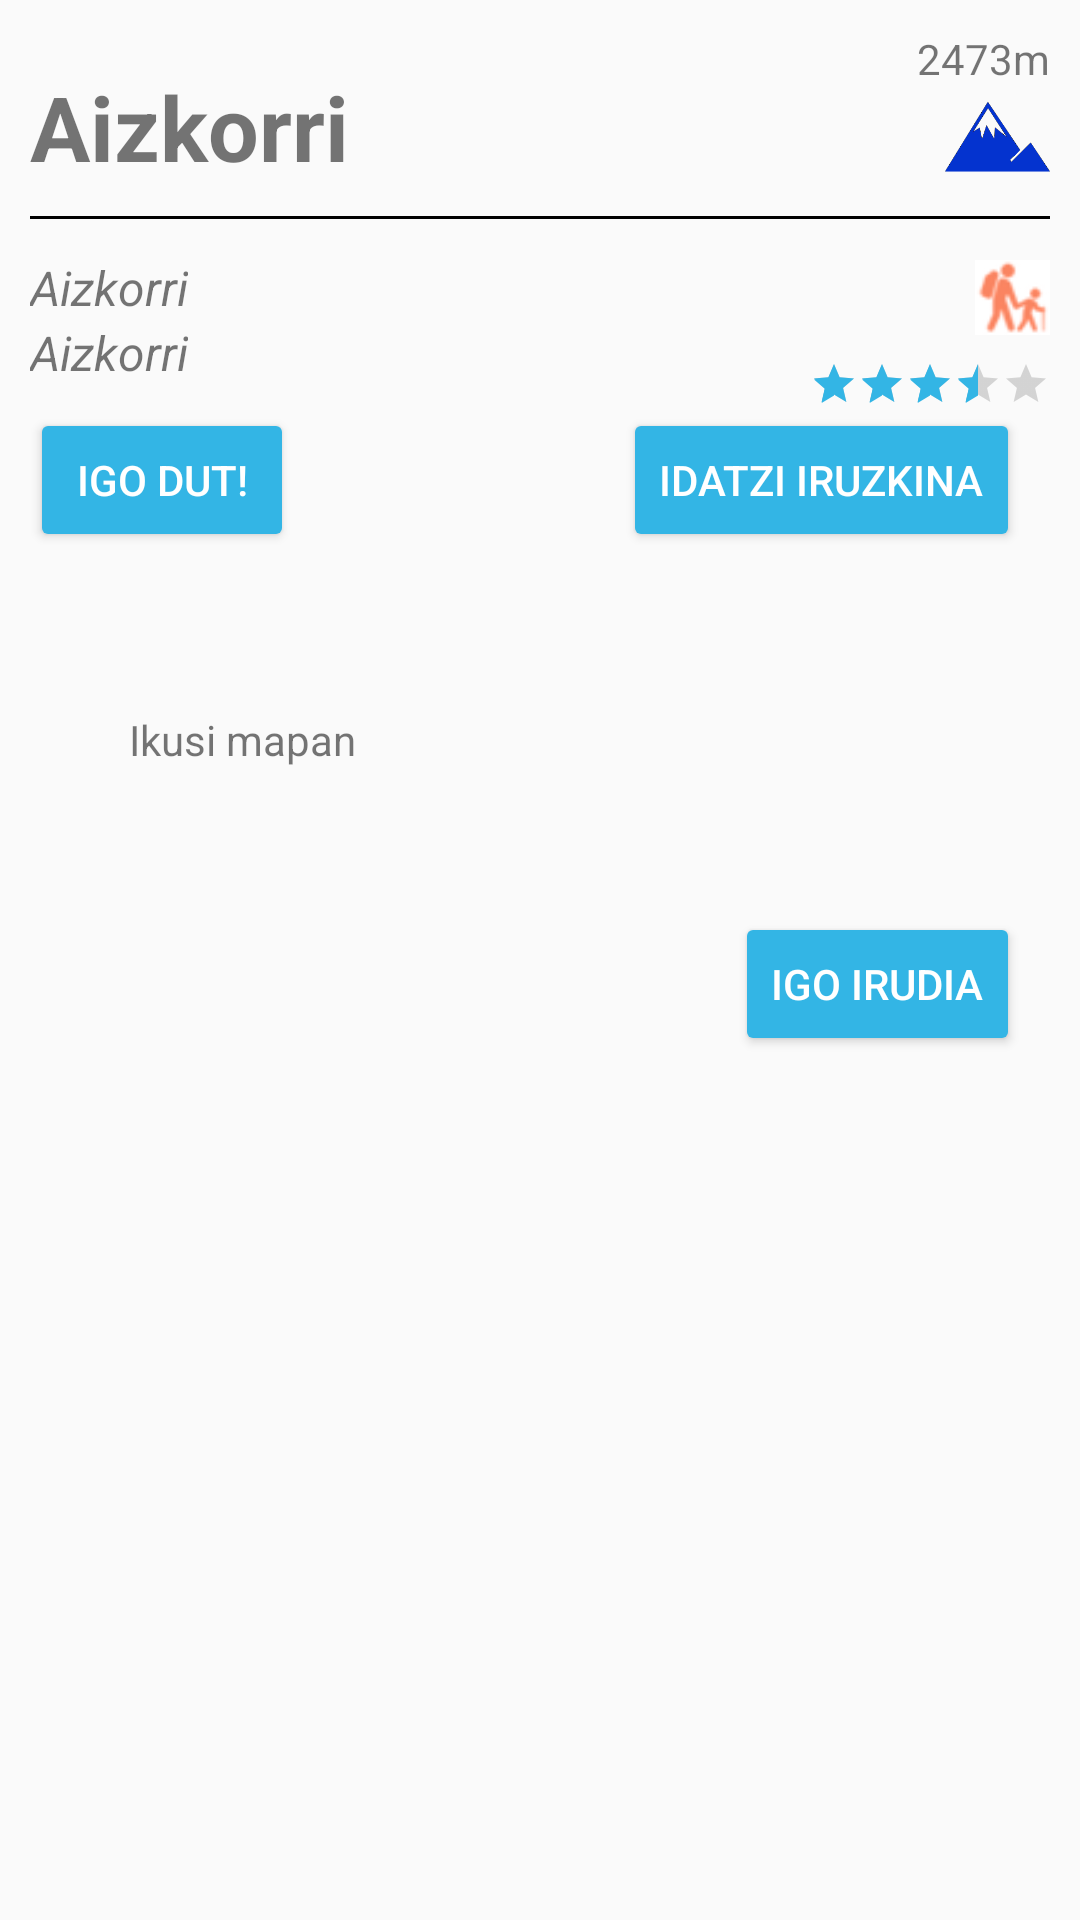

Named icons in this screenshot (1080×1920) and their bounding boxes, [x1, y1, x2, y2]:
mountain: [945, 102, 1050, 172]
umeentzategoki: [979, 262, 1046, 332]
